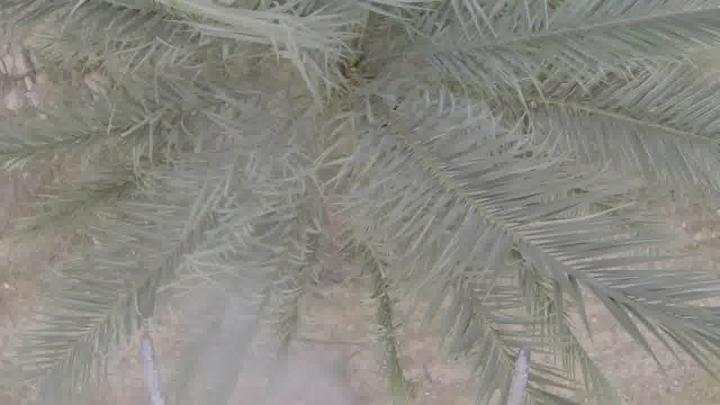Date-Palm-Crown: (82, 0, 638, 312)
